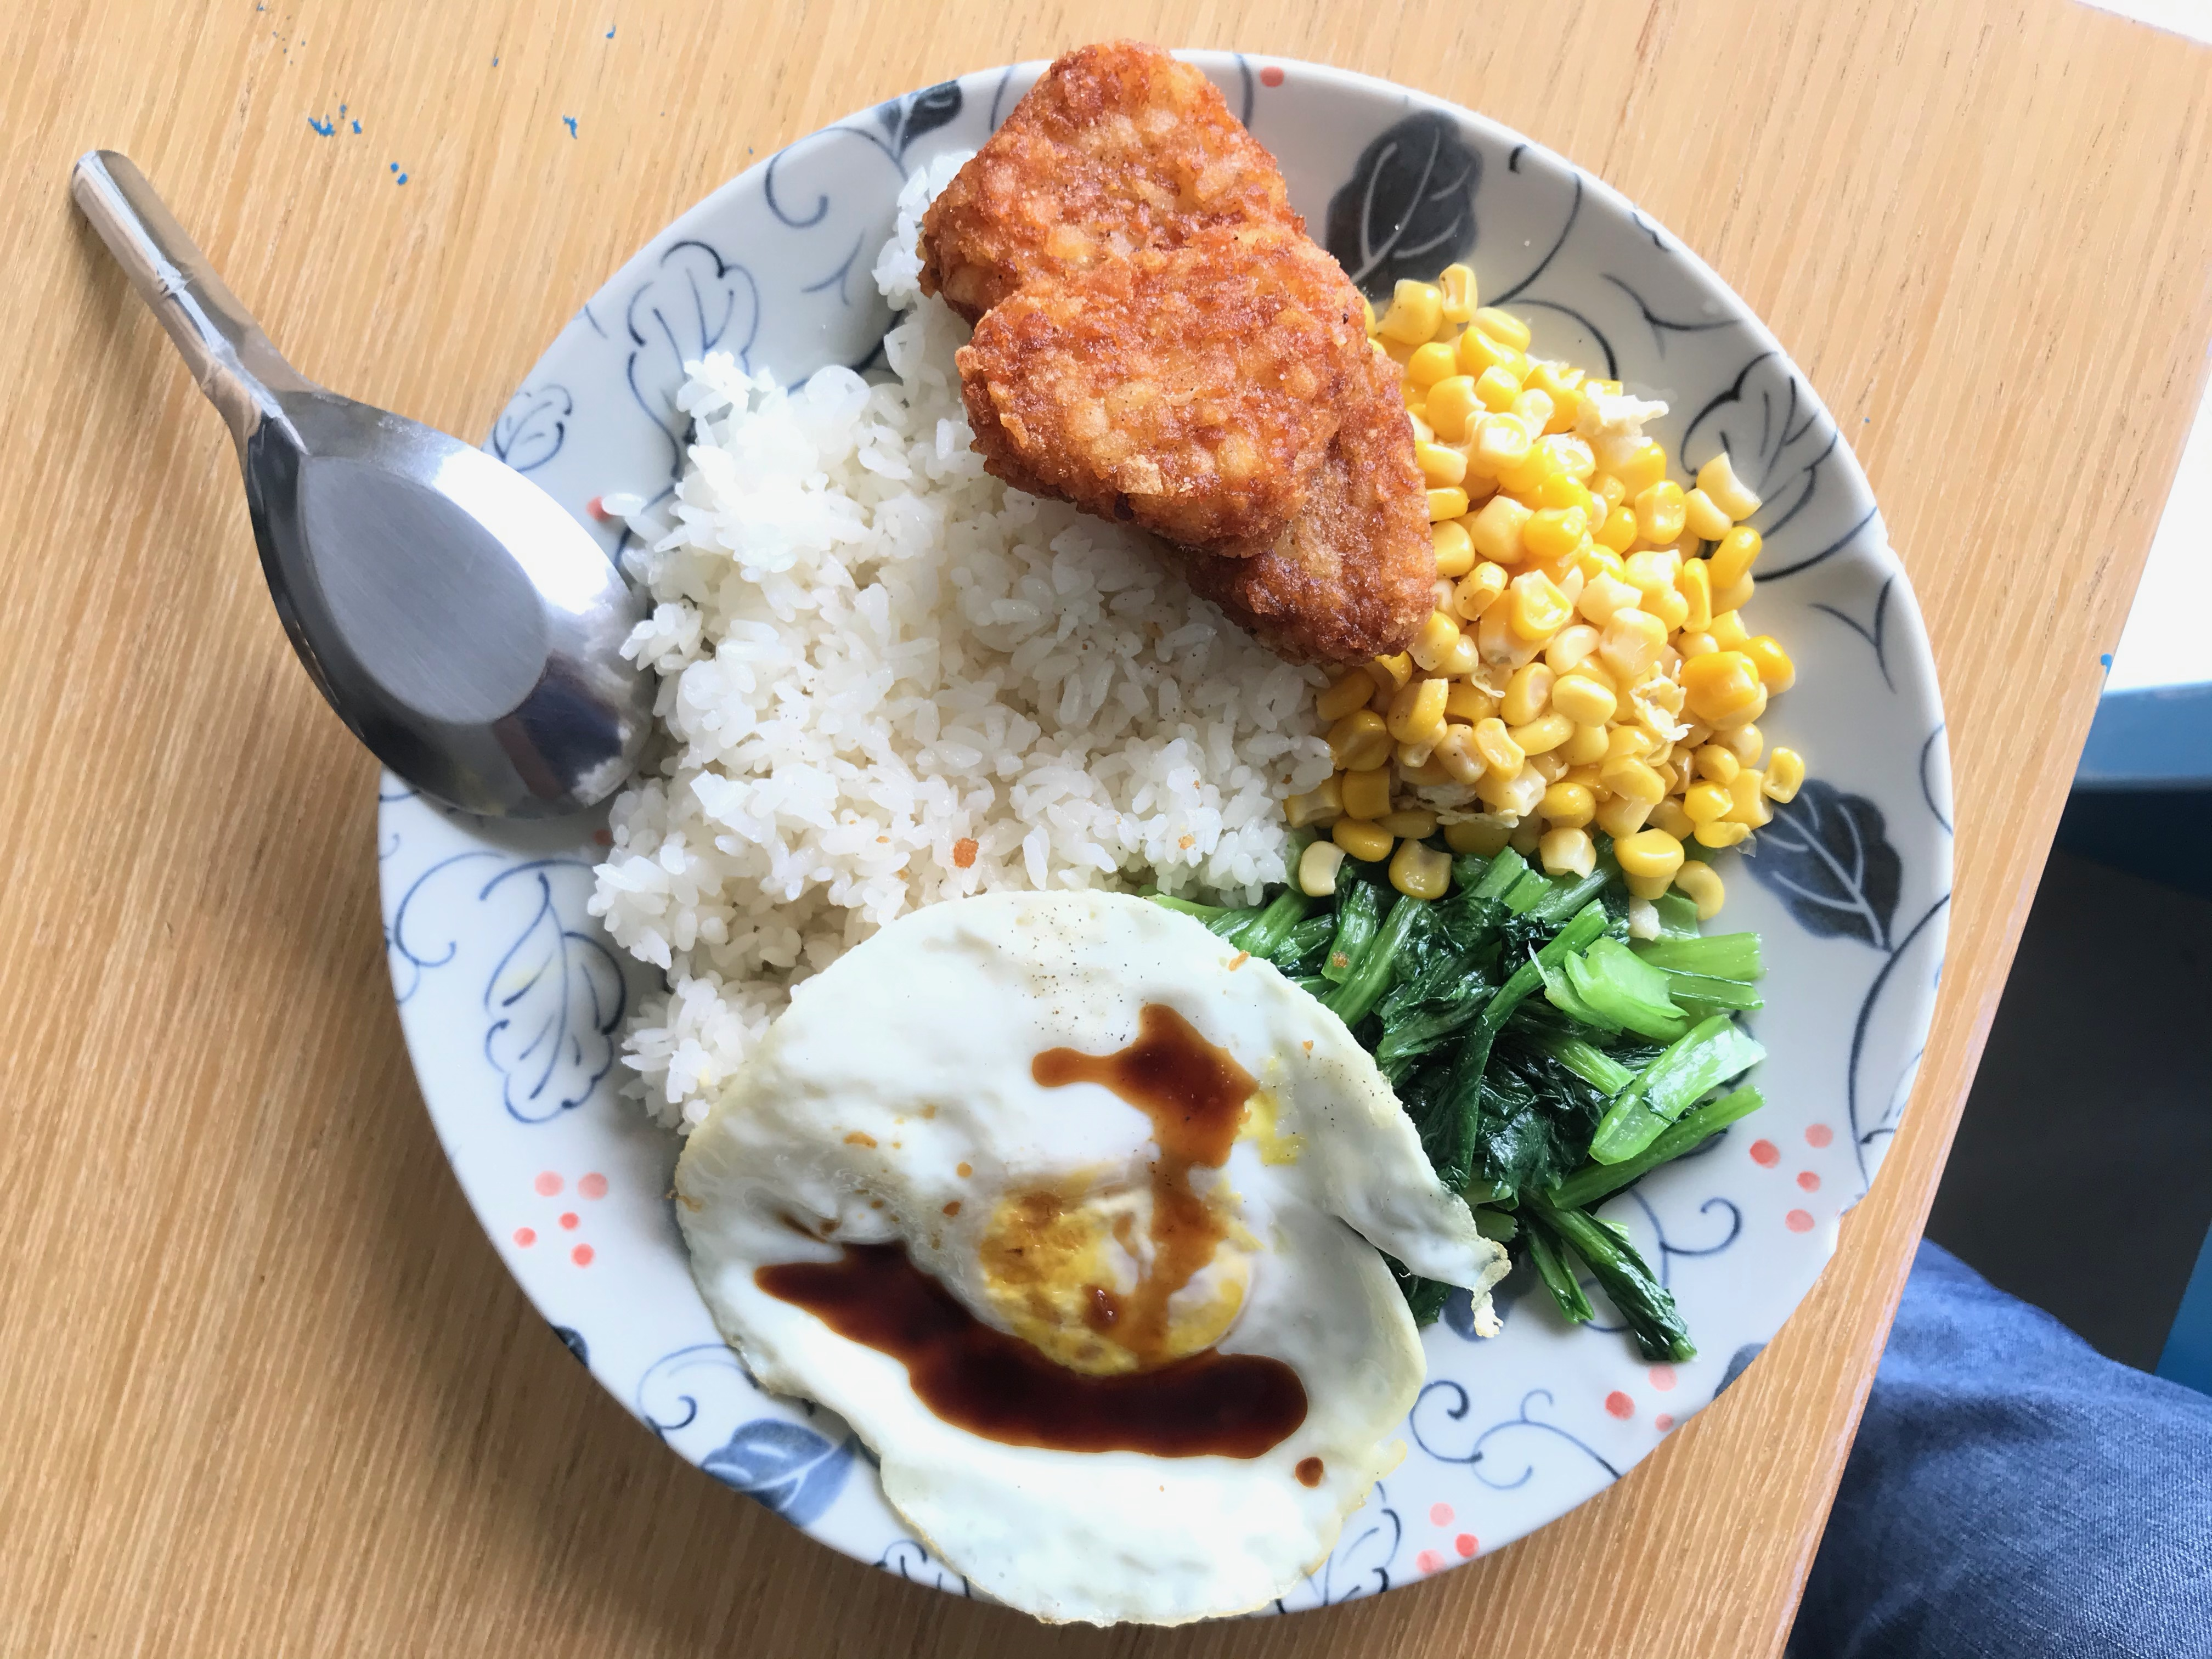fried_eggs: (679, 894, 1484, 1624)
rice: (627, 396, 1233, 892)
triangle_hash_brown: (923, 42, 1437, 666)
water_spinach: (1270, 875, 1761, 1363)
